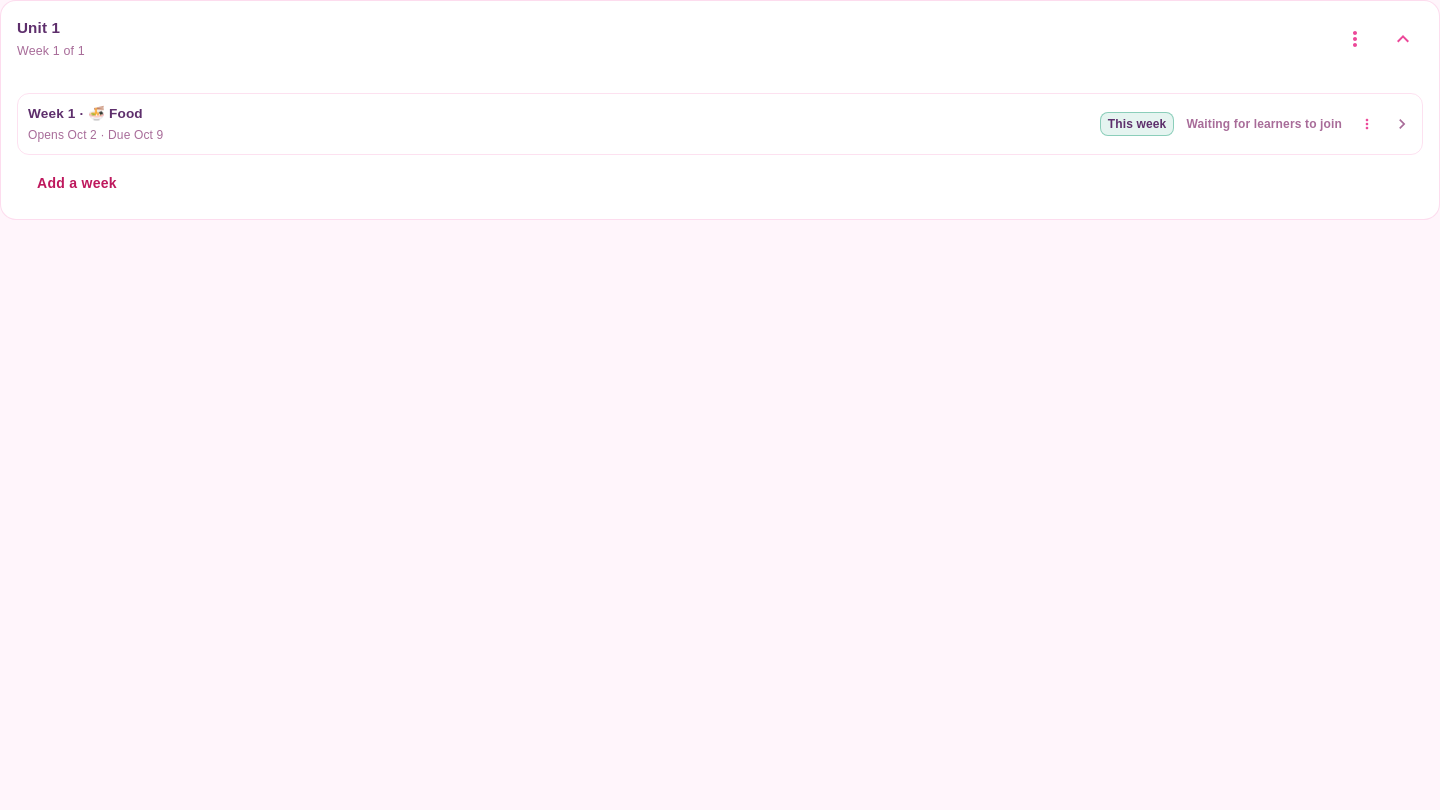
Test: LessonLibrary › shows the already-in-unit message instead of the generic save error
Step 1. Click the button "Add a week" → (77, 183), box 17,163 -> 137,203
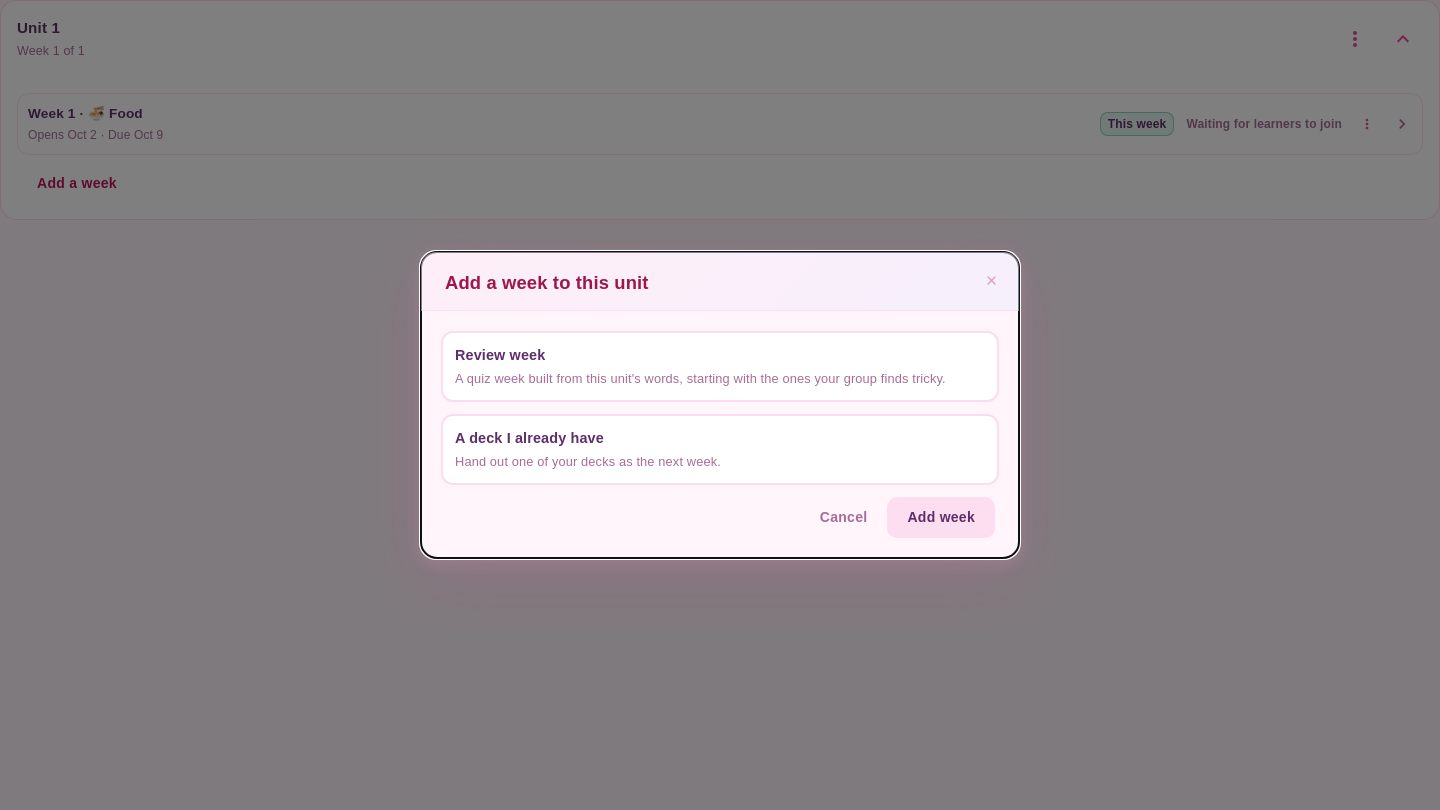
Step 2. Click the button "Review week" → (500, 355), box 441,332 -> 999,402
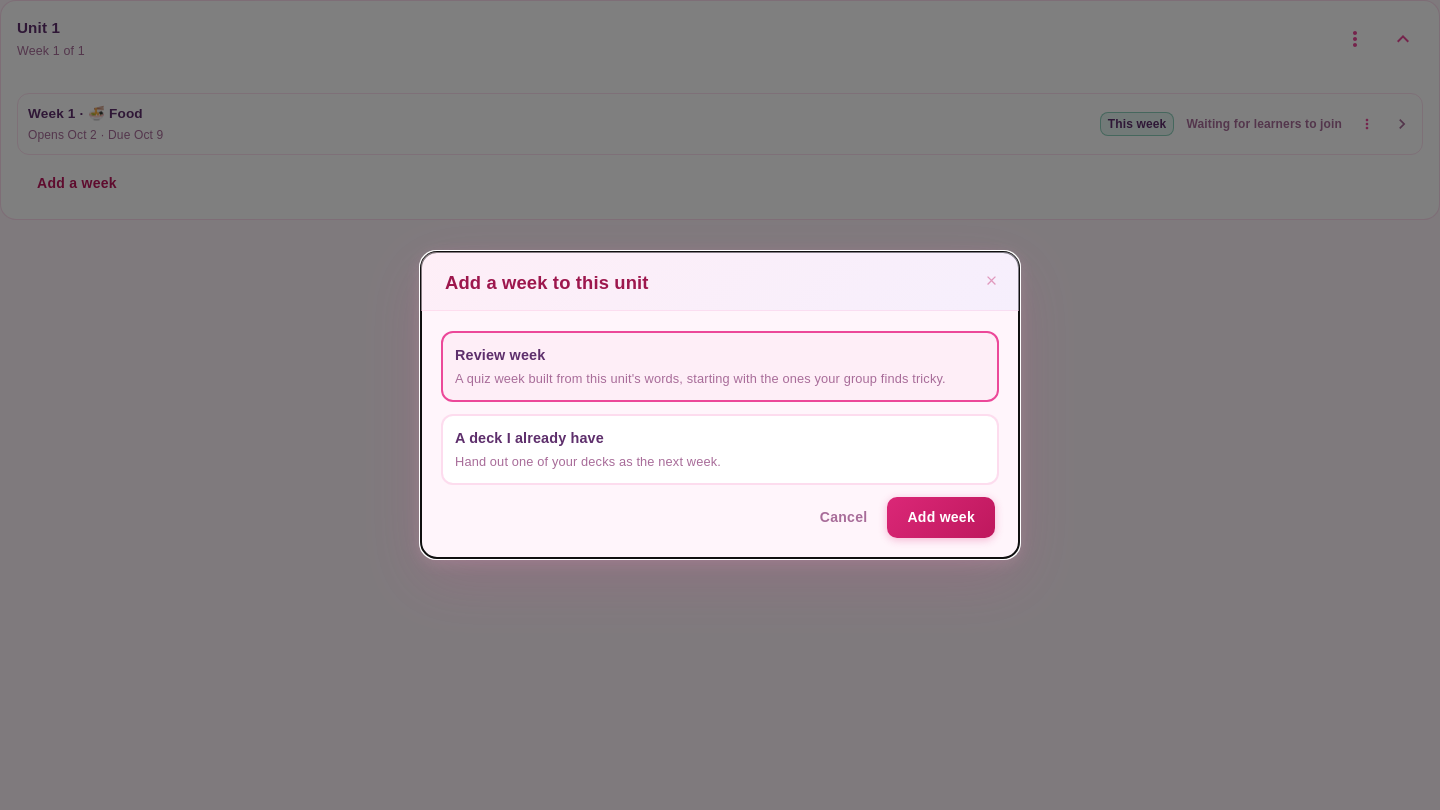
Step 3. Click the button "Add week" → (941, 517), box 887,497 -> 995,538
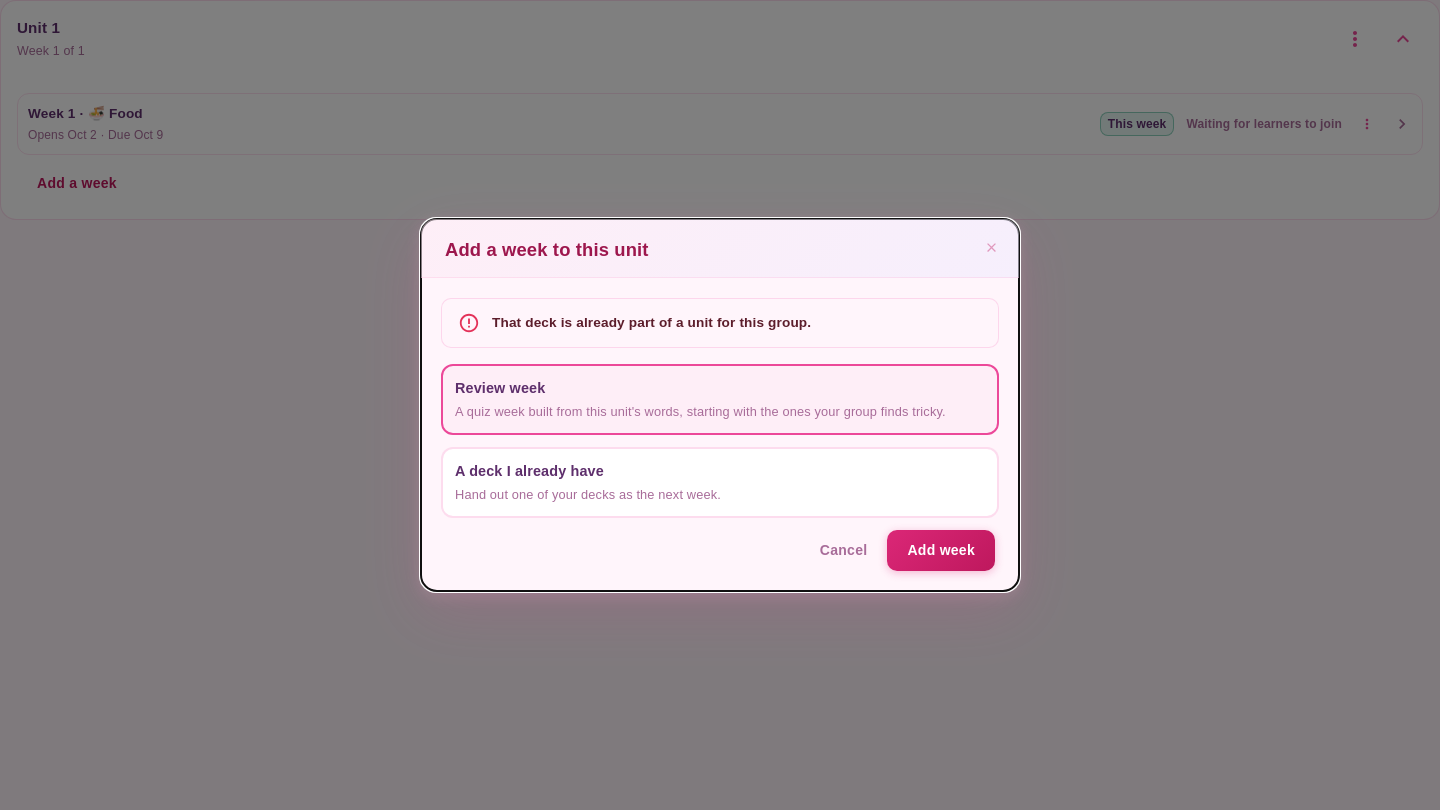
Check: the text "That deck is already part of a unit for this group." is shown, box 492,316 -> 811,330
